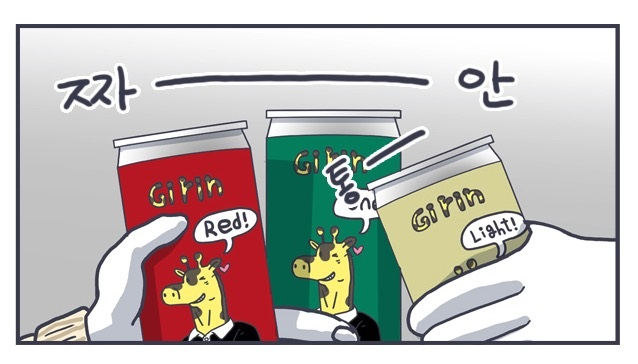can: (106, 116, 281, 341), (261, 102, 404, 341)
